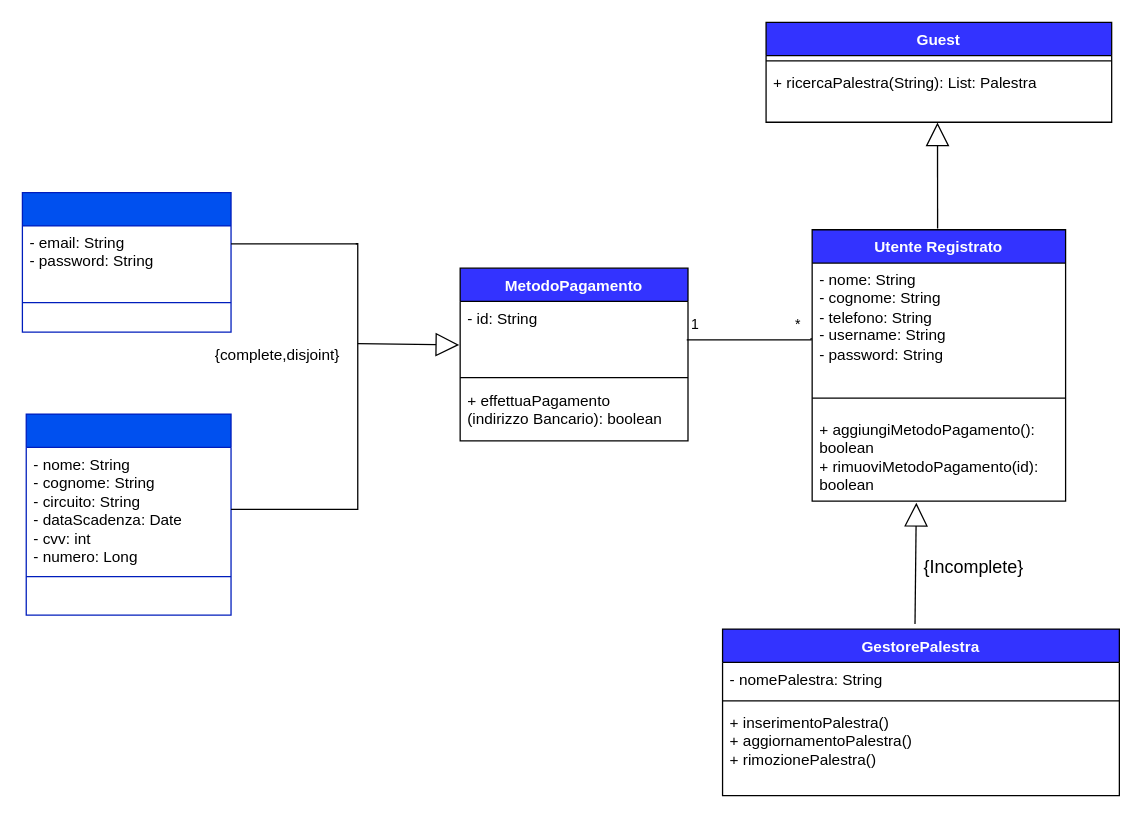
This 1142x822 diagram has some shape labels left out. The shapes that lost their labels are listed below. From the top down, each one's box as (x1, y1, x2, y2) in pixels, then its label:
(21, 191, 231, 332): AccountPayPal
(25, 413, 231, 615): CartaDiCredito
